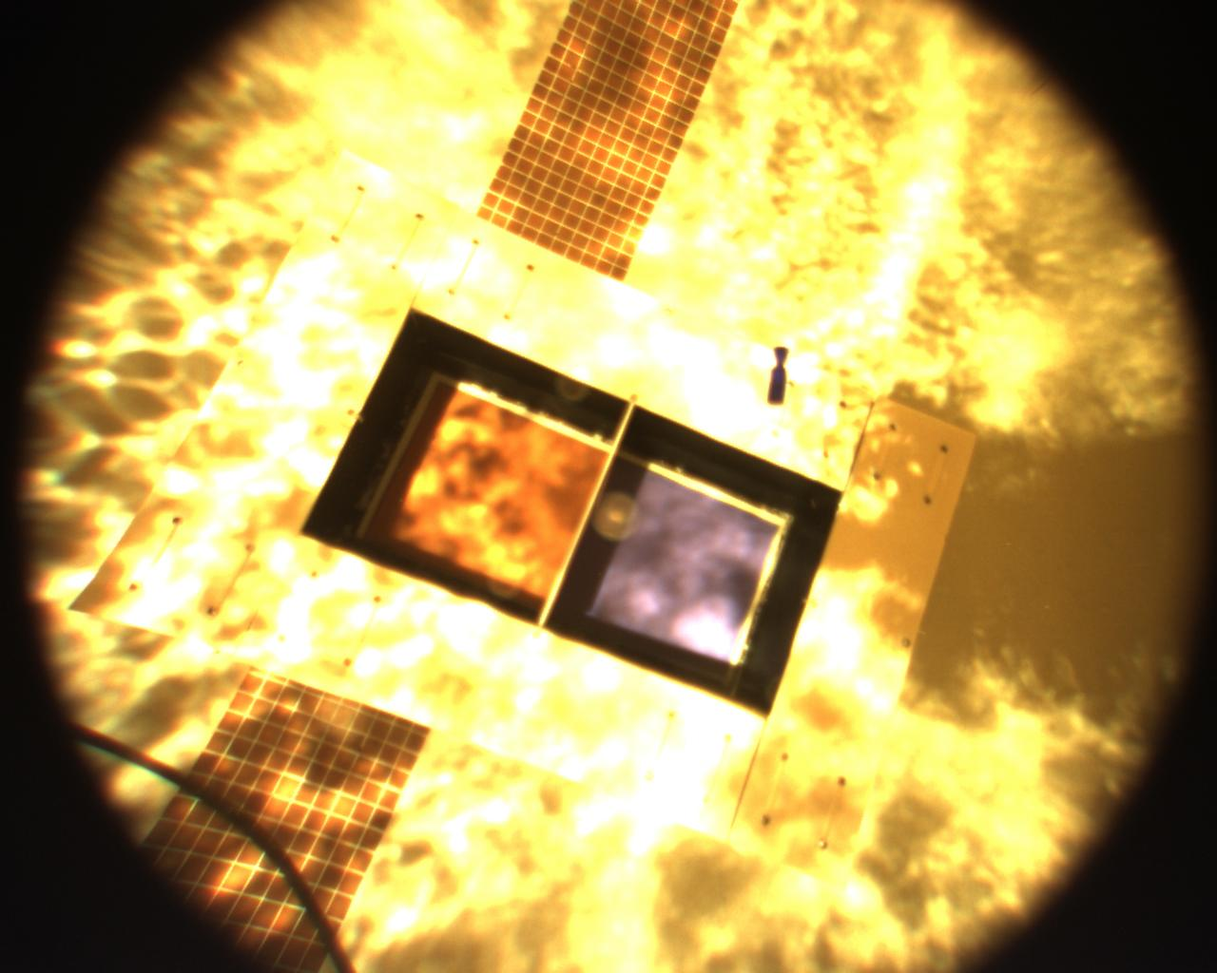dropper-box-top: (61, 175, 963, 868)
